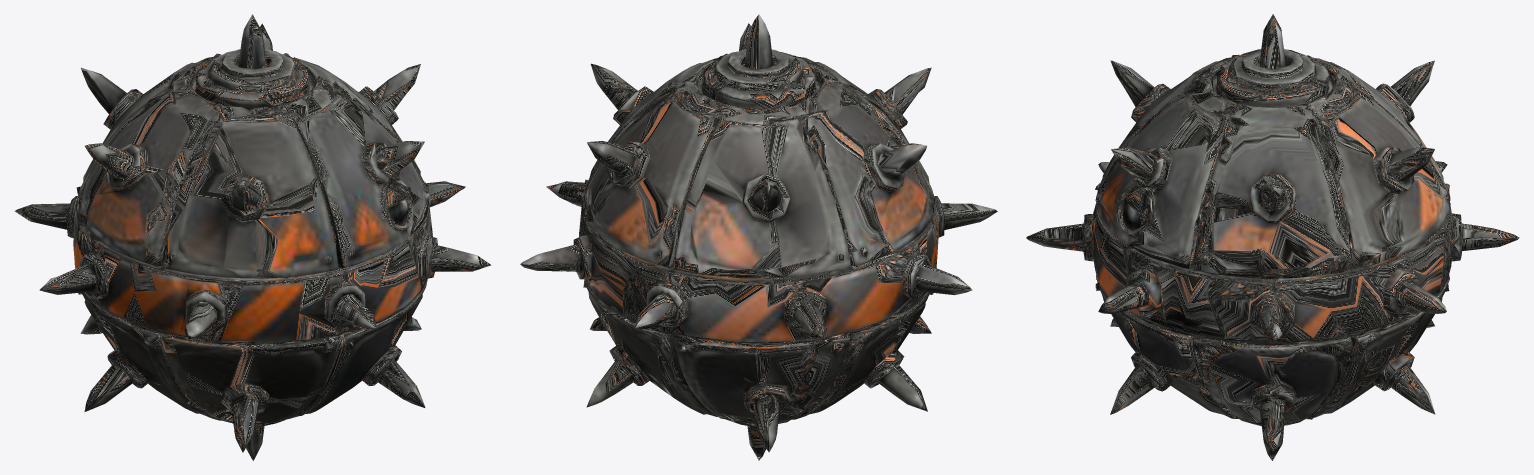
The picture shows the model from 3 angles, left to right: view 1: azimuth 30°, elevation 25°; view 2: azimuth 150°, elevation 25°; view 3: azimuth 270°, elevation 25°; orthographic projection.
Bounding box in the file's own units: 0.9982 × 0.9993 × 1.
1 material, 1 textured.
